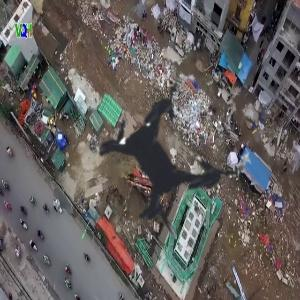drone: (37, 27, 295, 285)
